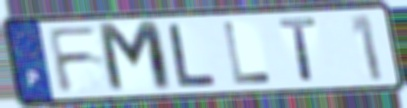1: (349, 11, 386, 83)
F: (44, 24, 103, 96)
L: (220, 20, 275, 87), (165, 22, 219, 89)
M: (93, 18, 177, 97)
T: (276, 16, 321, 85)
